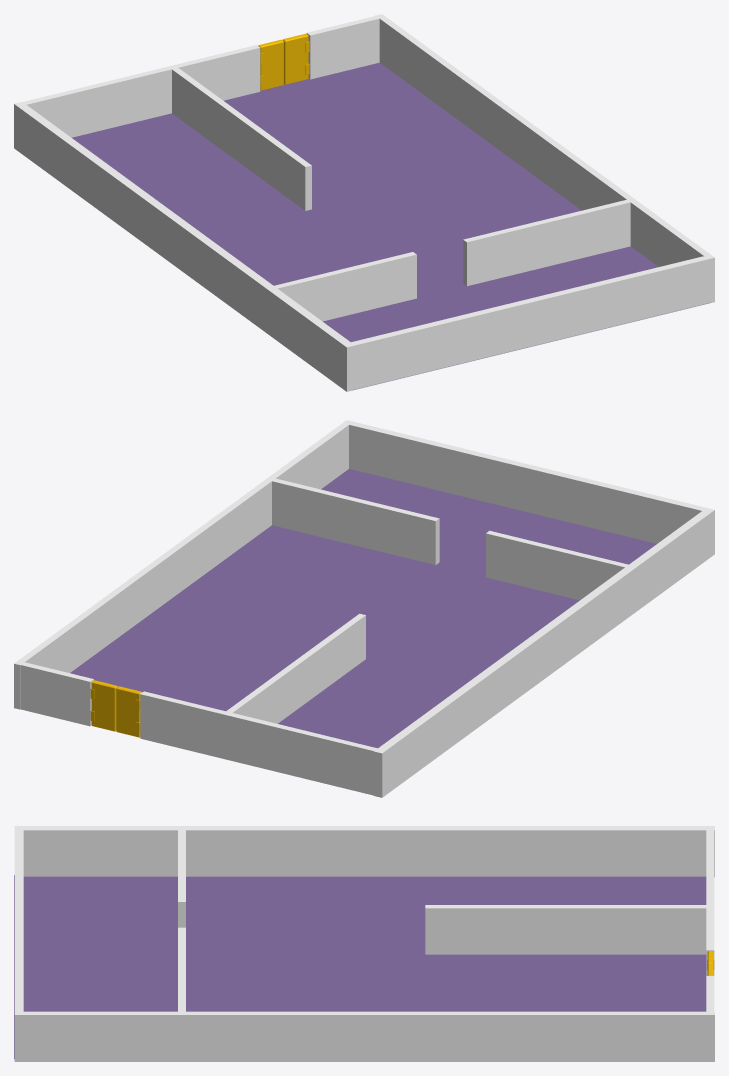
File: maps_77.fbx
The picture shows the model from 3 angles, top to bottom: view 1: azimuth 30°, elevation 25°; view 2: azimuth 150°, elevation 25°; view 3: azimuth 270°, elevation 25°; orthographic projection. The views are drawn at different scales.
Visible parts, largest first — view 1: wall_01_08_geo, wall_01_07_geo, wall_01_05_geo, wall_01_06_geo, wall_01_09_geo, wall_01_11_geo27, wall_01_11_geo39, wall_01_11_geo38, wall_01_09_geo1, polySurface161, polySurface165; view 2: wall_01_08_geo, wall_01_07_geo, wall_01_05_geo, wall_01_06_geo, wall_01_09_geo, wall_01_11_geo27, wall_01_11_geo39, wall_01_11_geo38, wall_01_09_geo1, polySurface161, polySurface165; view 3: wall_01_08_geo, wall_01_06_geo, wall_01_07_geo, wall_01_11_geo39, wall_01_05_geo, wall_01_09_geo, wall_01_11_geo38, wall_01_11_geo27.
Part boxes in pixels (x1,y1,x2,y2): wall_01_08_geo: (72,62,710,390); wall_01_07_geo: (14,102,354,391); wall_01_05_geo: (351,256,708,389); wall_01_06_geo: (376,14,714,303); wall_01_09_geo: (23,45,260,137); wall_01_11_geo27: (463,199,631,286); wall_01_11_geo39: (172,67,311,210); wall_01_11_geo38: (274,252,416,321); wall_01_09_geo1: (306,16,379,79); polySurface161: (282,33,309,84); polySurface165: (258,39,283,90); wall_01_08_geo: (70,469,656,748); wall_01_07_geo: (373,508,714,797); wall_01_05_geo: (349,421,706,543); wall_01_06_geo: (14,420,352,709); wall_01_09_geo: (140,691,377,795); wall_01_11_geo27: (270,478,439,564); wall_01_11_geo39: (226,613,365,723); wall_01_11_geo38: (486,530,628,600); wall_01_09_geo1: (21,662,93,726); polySurface161: (90,680,117,731); polySurface165: (116,686,141,737); wall_01_08_geo: (14,875,706,1059); wall_01_06_geo: (14,1011,714,1061); wall_01_07_geo: (14,826,714,877); wall_01_11_geo39: (425,905,707,954); wall_01_05_geo: (14,830,23,1011); wall_01_09_geo: (706,830,714,975); wall_01_11_geo38: (178,830,185,927); wall_01_11_geo27: (178,927,185,1011).
Bounding box in the file's own units: 76.85 × 8.89 × 120.
Materials: 2 (2 with a texture image).
